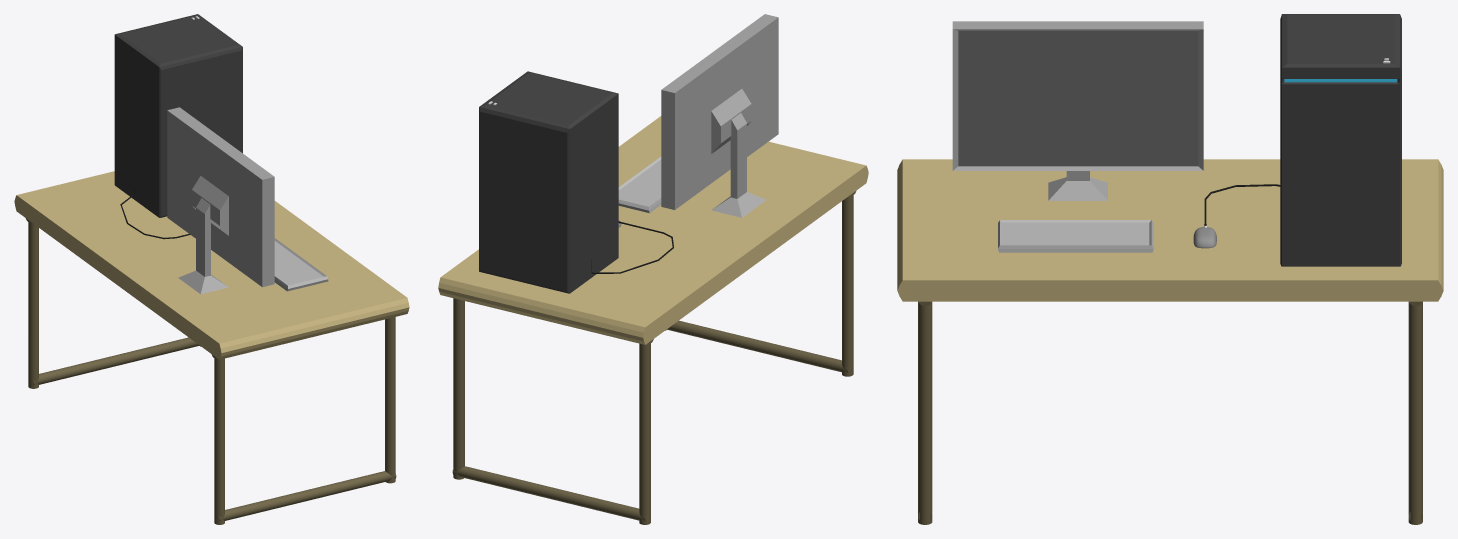
File: PC with table.fbx
3 renders of one model, left to right at view 1: azimuth 30°, elevation 25°; view 2: azimuth 150°, elevation 25°; view 3: azimuth 270°, elevation 25°, orthographic. The views are drawn at different scales.
Parts seen in each view (by area): view 1: Cube.001, Cube, Monitor, Cylinder, Cube.002; view 2: Cube.001, Cube, Monitor, Cylinder, Cube.002; view 3: Cube.001, Monitor, Cube, Cylinder, Cube.002.
Part boxes in pixels (x1=…): Cube.001: x1=14, y1=171, x2=409, y2=359; Cube: x1=114, y1=14, x2=242, y2=217; Monitor: x1=167, y1=107, x2=274, y2=294; Cylinder: x1=26, y1=218, x2=396, y2=524; Cube.002: x1=274, y1=238, x2=328, y2=291; Cube.001: x1=438, y1=116, x2=868, y2=344; Cube: x1=479, y1=71, x2=618, y2=293; Monitor: x1=661, y1=14, x2=778, y2=217; Cylinder: x1=452, y1=191, x2=856, y2=524; Cube.002: x1=618, y1=156, x2=661, y2=213; Cube.001: x1=897, y1=159, x2=1443, y2=301; Monitor: x1=952, y1=21, x2=1203, y2=200; Cube: x1=1280, y1=14, x2=1401, y2=266; Cylinder: x1=918, y1=301, x2=1422, y2=524; Cube.002: x1=998, y1=220, x2=1153, y2=252.
Size of the model in its own units: 909 by 1572 by 1733.
